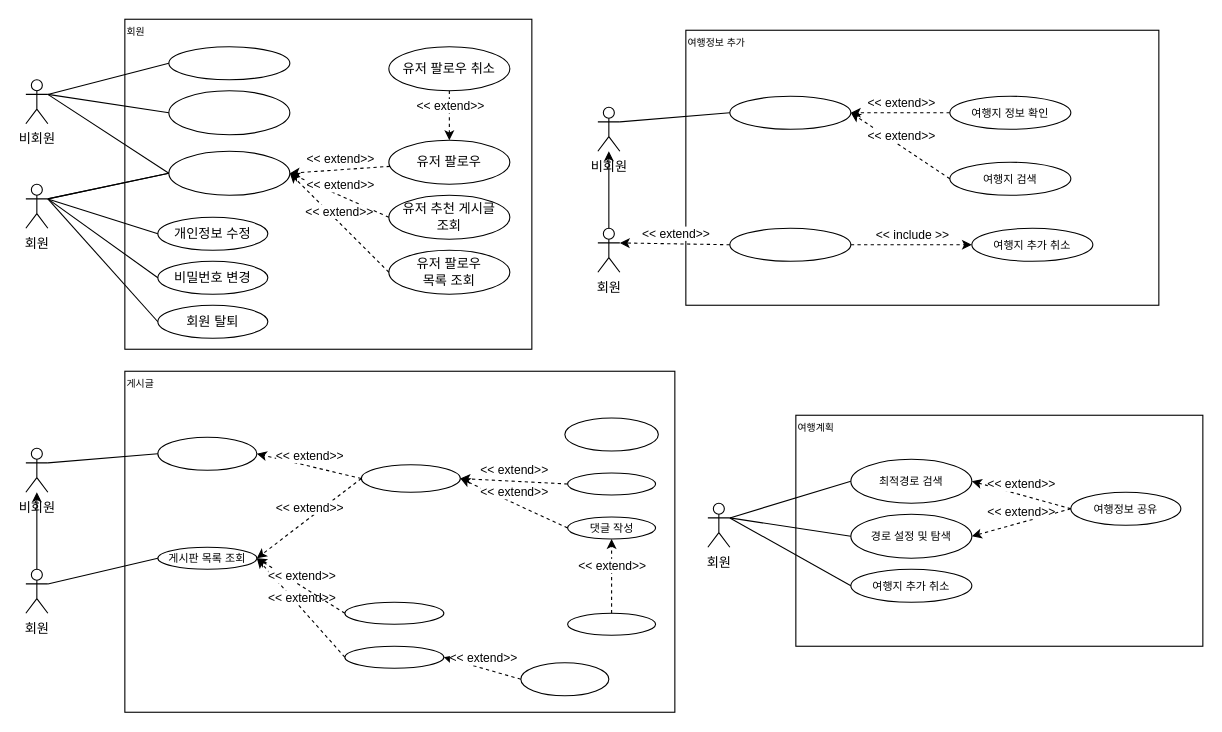
The diagram is 1222 pixels wide and 732 high, and some of its shapes have lost their labels. Each missing label, with the centre of its shape:
"게시글 검색" belongs at point (394, 612).
"게시글 작성" belongs at point (394, 656).
"게시글 추천" belongs at point (611, 483).
"댓글 삭제" belongs at point (611, 623).
"사용자 페이지 조회" belongs at point (229, 172).
"상세게시글 조회" belongs at point (410, 478).
"여행경로 공유" belongs at point (564, 679).
"여행정보 검색" belongs at point (790, 112).
"여행지 정보확인" belongs at point (611, 434).
"여행지 추가" belongs at point (790, 244).
"팔로워 순위 목록 조회" belongs at point (229, 112).
"핫플레이스 목록 확인" belongs at point (207, 453).
"회원가입" belongs at point (229, 63).
